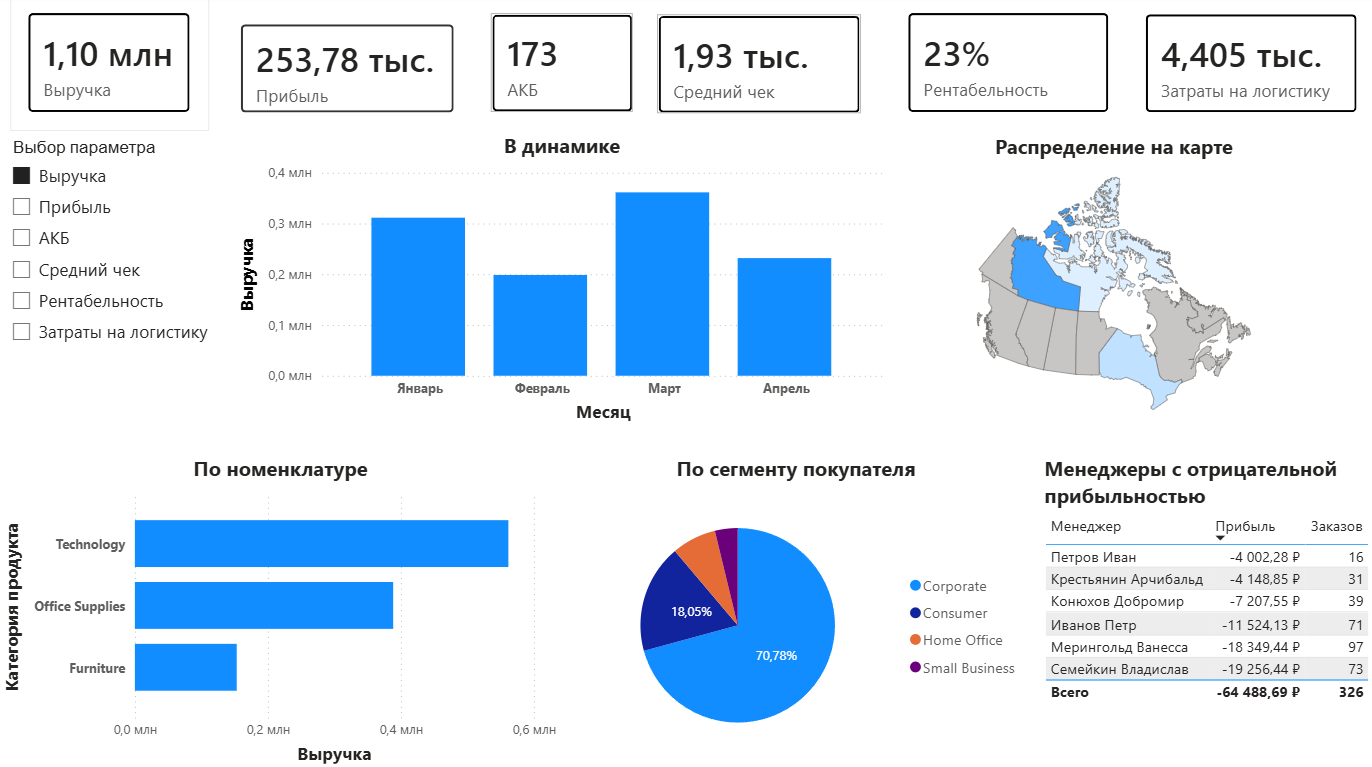

What the dashboard file says about the page in this screenshot:
{"tool":"powerbi","page":{"name":"Отчёт","canvas":[1280,720],"ordinal":0},"visuals":[{"type":"cardVisual","fields":{"Data":["Продажи.Общая выручка"]},"box":[10.5,0,184.9,126.7],"z":0},{"type":"cardVisual","fields":{"Data":["Продажи.Общая прибыль"]},"box":[208.1,10.5,232.6,116.3],"z":1000},{"type":"cardVisual","fields":{"Data":["Продажи.АКБ"]},"box":[440.7,0,166.3,126.7],"z":2000},{"type":"cardVisual","fields":{"Data":["Продажи.Средний чек"]},"box":[594.8,1.5,223,126.4],"z":3000},{"type":"cardVisual","fields":{"Data":["Продажи.Рентабельность"]},"box":[829.1,0,220.9,126.7],"z":4000},{"type":"tableEx","title":"Менеджеры с отрицательной прибыльностью","fields":{"Values":["СПР_Менеджеры.Менеджер","Продажи.Сумма убытков по менеджеру","Продажи.Количество убыточных заказов"]},"box":[967.5,427.5,312.5,292.5],"z":5000},{"type":"columnChart","title":"В динамике","fields":{"Y":["Продажи.Выручкa"],"Category":["Календарь.Date.Изменение.Иерархия дат.Год","Календарь.Date.Изменение.Иерархия дат.Месяц"]},"box":[218.8,126.2,610,276.2],"z":6000},{"type":"slicer","fields":{"Values":["Выбор показателя.Параметр"]},"box":[0,127.5,213.8,275],"z":7000},{"type":"pieChart","title":"По сегменту покупателя","fields":{"Y":["Продажи.Выручкa"],"Category":["СПР_покупатели.Сегмент покупателя"]},"box":[523.8,427.5,436.2,292.5],"z":8000},{"type":"barChart","title":"По номенклатуре","fields":{"Y":["Продажи.Выручкa"],"Category":["СПР_продукты.Номенклатура.Категория продукта","СПР_продукты.Номенклатура.Подкатегория продукта","СПР_продукты.Номенклатура.Продукт"]},"box":[0,427.5,523.8,292.5],"z":9000},{"type":"shapeMap","title":"Распределение на карте","fields":{"Value":["Продажи.Выручкa"],"Category":["Продажи.Регион"]},"box":[828.8,127.5,416.2,275],"z":10000},{"type":"cardVisual","fields":{"Data":["Продажи.Затраты на логистику"]},"box":[1050,1.2,230,125],"z":11000}]}

Visuals, with their boxes in screenshot pixels (x1, y1, x2, y2), scaled from the page's 1280x720 canvas onto the 1372x767 screenshot:
cardVisual - Продажи.Общая выручка: 11 0 209 135
cardVisual - Продажи.Общая прибыль: 223 11 472 135
cardVisual - Продажи.АКБ: 472 0 651 135
cardVisual - Продажи.Средний чек: 638 2 877 136
cardVisual - Продажи.Рентабельность: 889 0 1125 135
"Менеджеры с отрицательной прибыльностью" tableEx: 1037 455 1371 766
"В динамике" columnChart: 235 134 888 429
slicer - Выбор показателя.Параметр: 0 136 229 429
"По сегменту покупателя" pieChart: 561 455 1029 766
"По номенклатуре" barChart: 0 455 561 766
"Распределение на карте" shapeMap: 888 136 1334 429
cardVisual - Продажи.Затраты на логистику: 1125 1 1371 134
